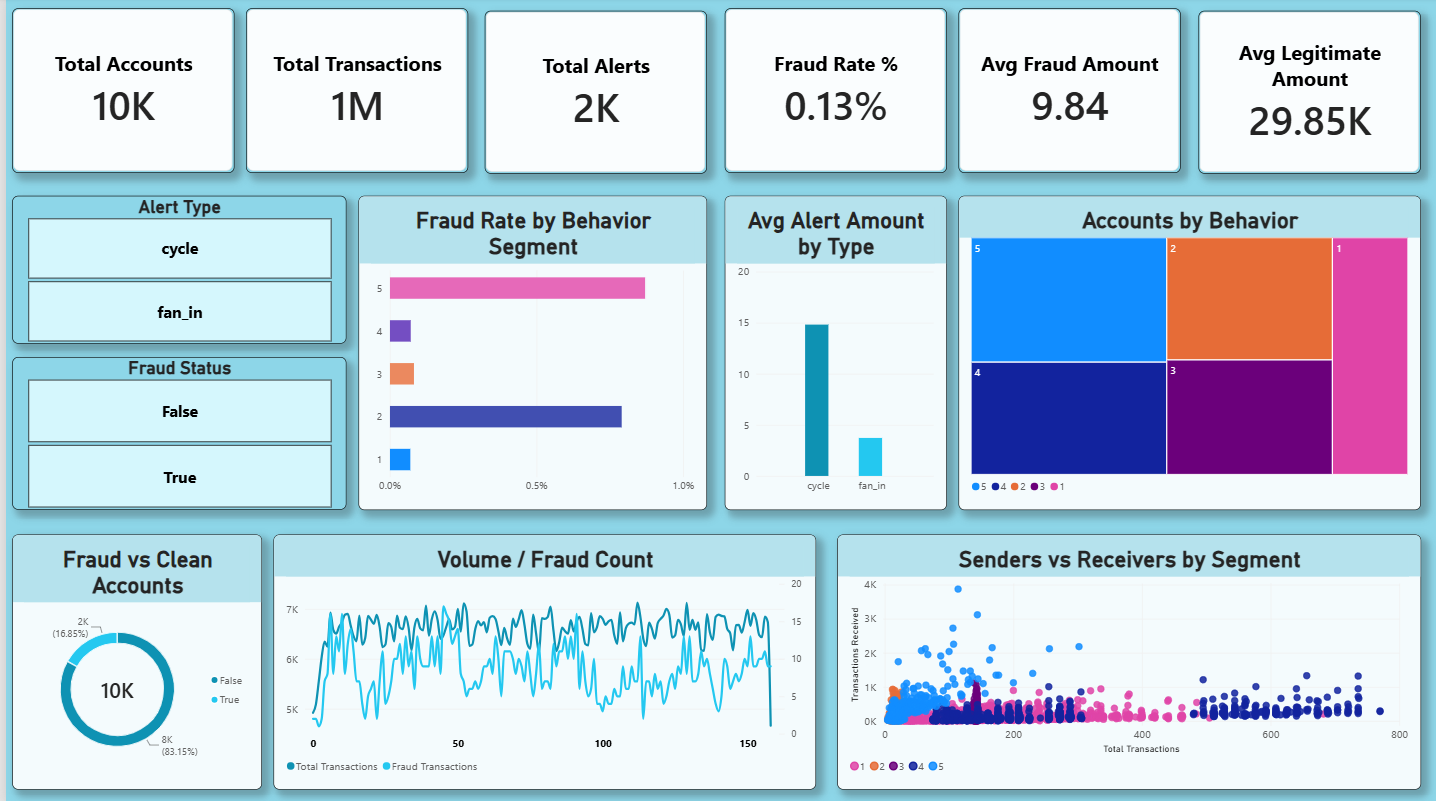

The dashboard page shown, as its layout file describes it:
{"tool":"powerbi","page":{"name":"Page 1","canvas":[1920,1080],"ordinal":0},"visuals":[{"type":"cardVisual","title":"Total Accounts","fields":{"Data":["_measures.Total Accounts"]},"box":[8.8,15.4,296.6,219.7],"z":0},{"type":"cardVisual","fields":{"Data":["_measures.Total Transactions"]},"box":[320.8,15.4,296.6,219.7],"z":1000},{"type":"cardVisual","fields":{"Data":["_measures.Total Alerts"]},"box":[639.4,17.6,296.6,217.5],"z":2000},{"type":"cardVisual","fields":{"Data":["_measures.Fraud Rate %"]},"box":[960.2,15.4,296.6,219.7],"z":3000},{"type":"cardVisual","fields":{"Data":["_measures.Avg Fraud Amount"]},"box":[1272.2,15.4,296.6,219.7],"z":4000},{"type":"cardVisual","fields":{"Data":["_measures.Avg Legitimate Amount"]},"box":[1593,17.6,296.6,217.5],"z":5000},{"type":"slicer","title":"Alert Type","fields":{"Values":["alerts.ALERT_TYPE"]},"box":[8.8,265.9,446.1,197.8],"z":6000},{"type":"slicer","title":"Fraud Status","fields":{"Values":["transactions.IS_FRAUD"]},"box":[8.8,481.2,446.1,204.3],"z":7000},{"type":"donutChart","fields":{"Category":["accounts.IS_FRAUD"],"Y":["_measures.Total Accounts"]},"box":[8.8,718.5,334,340.6],"z":8000},{"type":"barChart","title":"Fraud Rate by Behavior Segment","fields":{"Category":["accounts.TX_BEHAVIOR_ID"],"Y":["_measures.Fraud Rate %"]},"box":[470.2,265.9,465.8,419.7],"z":9000},{"type":"columnChart","title":"Avg Alert Amount by Type","fields":{"Category":["alerts.ALERT_TYPE"],"Y":["_measures.Average Alert Amount"]},"box":[960.2,265.9,296.6,419.7],"z":10000},{"type":"scatterChart","fields":{"X":["_measures.Total Transactions"],"Y":["_measures.Transactions Received"],"Series":["accounts.TX_BEHAVIOR_ID"],"Category":["accounts.ACCOUNT_ID"]},"box":[1109.6,718.5,780,340.6],"z":11000},{"type":"lineChart","fields":{"Y":["_measures.Total Transactions"],"Category":["transactions.TIMESTAMP"],"Y2":["_measures.Fraud Transactions"]},"box":[358.2,718.5,725.1,340.6],"z":12000},{"type":"treemap","title":"Accounts by Behavior","fields":{"Values":["_measures.Fraud Account Rate %"],"Group":["accounts.TX_BEHAVIOR_ID"]},"box":[1272.2,265.9,617.4,419.7],"z":13000}]}

Visuals, with their boxes in screenshot pixels (x1, y1, x2, y2), scaled from the page's 1920x1080 canvas onto the 1436x801 screenshot:
"Total Accounts" cardVisual: detection(7, 11, 228, 174)
cardVisual - _measures.Total Transactions: detection(240, 11, 462, 174)
cardVisual - _measures.Total Alerts: detection(478, 13, 700, 174)
cardVisual - _measures.Fraud Rate %: detection(718, 11, 940, 174)
cardVisual - _measures.Avg Fraud Amount: detection(951, 11, 1173, 174)
cardVisual - _measures.Avg Legitimate Amount: detection(1191, 13, 1413, 174)
"Alert Type" slicer: detection(7, 197, 340, 344)
"Fraud Status" slicer: detection(7, 357, 340, 508)
donutChart - accounts.IS_FRAUD x _measures.Total Accounts: detection(7, 533, 256, 785)
"Fraud Rate by Behavior Segment" barChart: detection(352, 197, 700, 508)
"Avg Alert Amount by Type" columnChart: detection(718, 197, 940, 508)
scatterChart - _measures.Total Transactions x _measures.Transactions Received: detection(830, 533, 1413, 785)
lineChart - _measures.Total Transactions x transactions.TIMESTAMP: detection(268, 533, 810, 785)
"Accounts by Behavior" treemap: detection(951, 197, 1413, 508)
